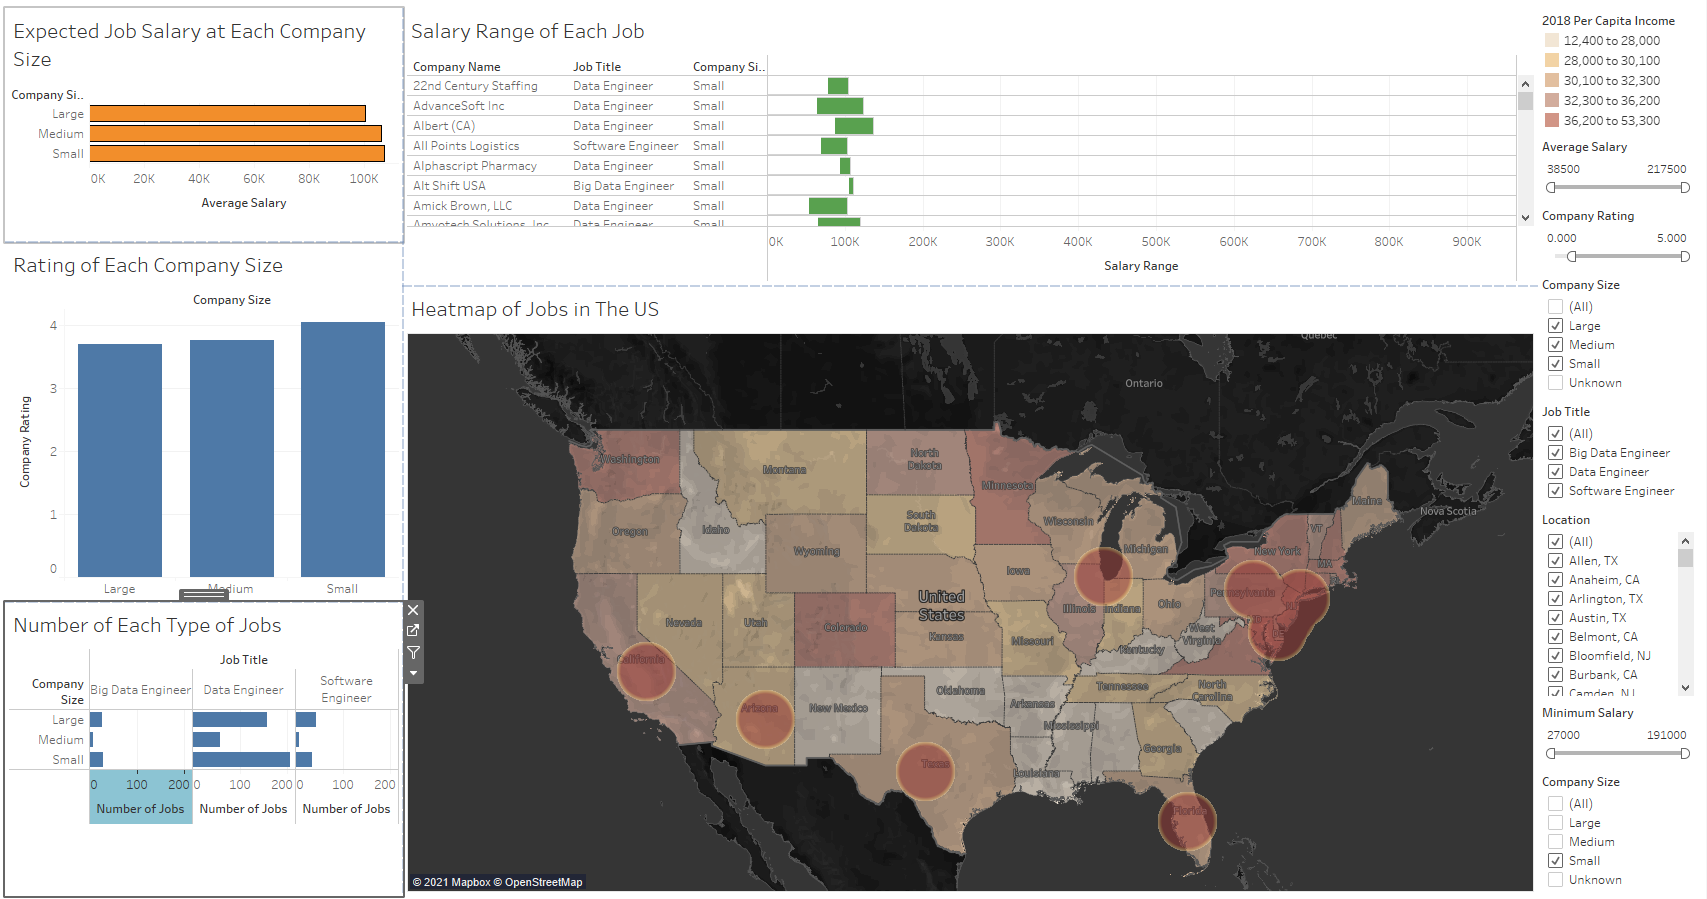

The page's visual inventory and layout, read from the dashboard file:
{"tool":"tableau","page":{"name":"Milestone4 Dashboard","canvas":[1000,1000],"units":"permille","ordinal":0},"visuals":[{"type":"worksheet","title":"Expected Job Salary at Each Company Size","mark":"Bar","rows":["Company Size"],"cols":["Average Salary"],"box":[4.7,8.8,233,258.9]},{"type":"worksheet","title":"Salary Range of Each Job","mark":"Bar","rows":["Company Name","Job Title","Company Size"],"cols":["Maximum Salary","Minimum Salary"],"box":[237.7,8.8,664,307.5]},{"type":"legend","title":"Heatmap of Jobs in The US","box":[901.6,8.8,93.7,139.4]},{"type":"filter","title":"Heatmap of Jobs in The US","param":"[federated.0dt8n5j0hmonda1379hsq11wwy3d].[none:Average Salary:qk]","box":[901.6,148.2,93.7,76.3]},{"type":"filter","title":"Heatmap of Jobs in The US","param":"[federated.0dt8n5j0hmonda1379hsq11wwy3d].[none:Company Rating:qk]","box":[901.6,224.6,93.7,76.3]},{"type":"worksheet","title":"Rating of Each Company Size","mark":"Bar","rows":["Company Rating"],"cols":["Company Size"],"box":[4.7,267.7,233,398.2]},{"type":"filter","title":"Heatmap of Jobs in The US","param":"[federated.0dt8n5j0hmonda1379hsq11wwy3d].[none:Company Size:nk]","box":[901.6,300.9,93.7,140.5]},{"type":"worksheet","title":"Heatmap of Jobs in The US","mark":"Heatmap","rows":["Lat"],"cols":["Long"],"box":[237.7,316.4,664,674.8]},{"type":"filter","title":"Heatmap of Jobs in The US","param":"[federated.0dt8n5j0hmonda1379hsq11wwy3d].[none:Job Title:nk]","box":[901.6,441.4,93.7,119.5]},{"type":"filter","title":"Heatmap of Jobs in The US","param":"[federated.0dt8n5j0hmonda1379hsq11wwy3d].[none:Location:nk]","box":[901.6,560.9,93.7,213.5]},{"type":"worksheet","title":"Number of Each Type of Jobs ","mark":"Automatic","rows":["Company Size"],"cols":["Job Title","Job Title"],"box":[4.7,665.9,233,325.2]},{"type":"filter","title":"Heatmap of Jobs in The US","param":"[federated.0dt8n5j0hmonda1379hsq11wwy3d].[none:Minimum Salary:qk]","box":[901.6,774.3,93.7,76.3]},{"type":"filter","title":"Salary Range of Each Job","param":"[federated.0dt8n5j0hmonda1379hsq11wwy3d].[none:Company Size:nk]","box":[901.6,850.7,93.7,140.5]}]}

Visuals, with their boxes on the dashboard's canvas, which has no fixed pixel size, in thousandths of its width and height (x1, y1, x2, y2). These are canvas units, not pixel positions in the 1707x899 screenshot, which may show the page scaled, cropped or inside an application window:
"Expected Job Salary at Each Company Size" worksheet (Bar marks): bbox(5, 9, 238, 268)
"Salary Range of Each Job" worksheet (Bar marks): bbox(238, 9, 902, 316)
"Heatmap of Jobs in The US" legend: bbox(902, 9, 995, 148)
"Heatmap of Jobs in The US" filter: bbox(902, 148, 995, 224)
"Heatmap of Jobs in The US" filter: bbox(902, 225, 995, 301)
"Rating of Each Company Size" worksheet (Bar marks): bbox(5, 268, 238, 666)
"Heatmap of Jobs in The US" filter: bbox(902, 301, 995, 441)
"Heatmap of Jobs in The US" worksheet (Heatmap marks): bbox(238, 316, 902, 991)
"Heatmap of Jobs in The US" filter: bbox(902, 441, 995, 561)
"Heatmap of Jobs in The US" filter: bbox(902, 561, 995, 774)
"Number of Each Type of Jobs " worksheet: bbox(5, 666, 238, 991)
"Heatmap of Jobs in The US" filter: bbox(902, 774, 995, 851)
"Salary Range of Each Job" filter: bbox(902, 851, 995, 991)
